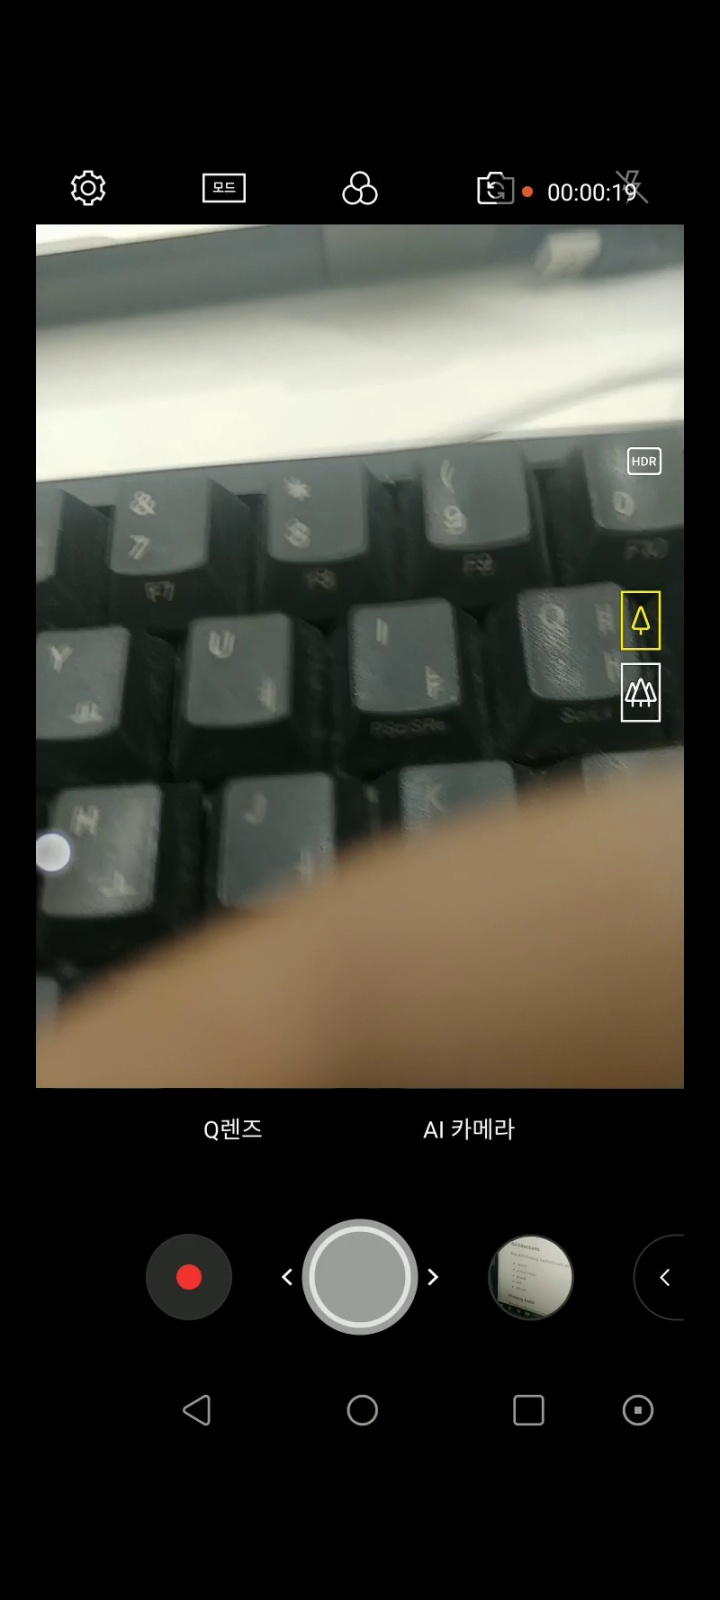Cursor: (37, 830, 76, 874)
